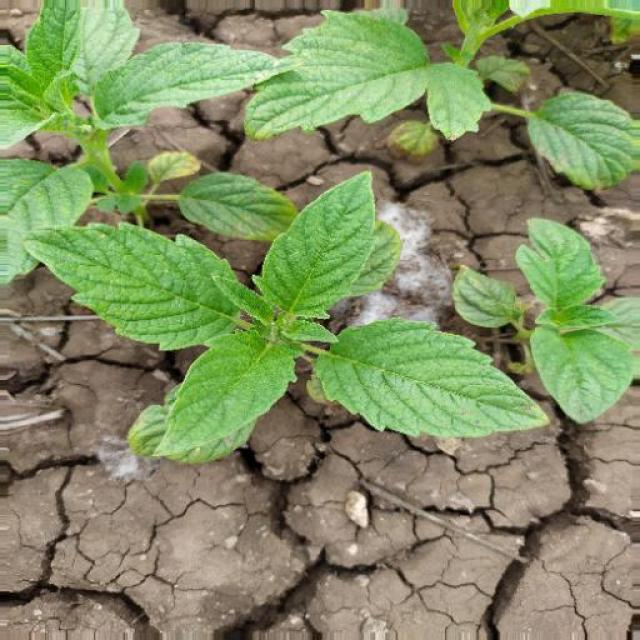crop: (30, 163, 562, 485), (1, 2, 320, 296), (250, 7, 636, 202)
